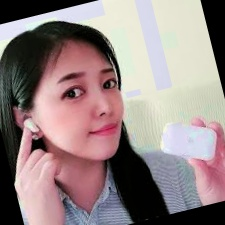earphone: (10, 101, 44, 142)
